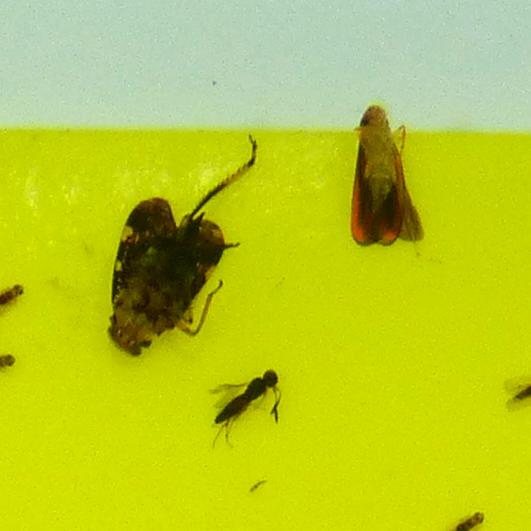Hemiptera: (100, 138, 263, 366), (343, 100, 431, 252)
Hymenoptera: (214, 365, 285, 431)
